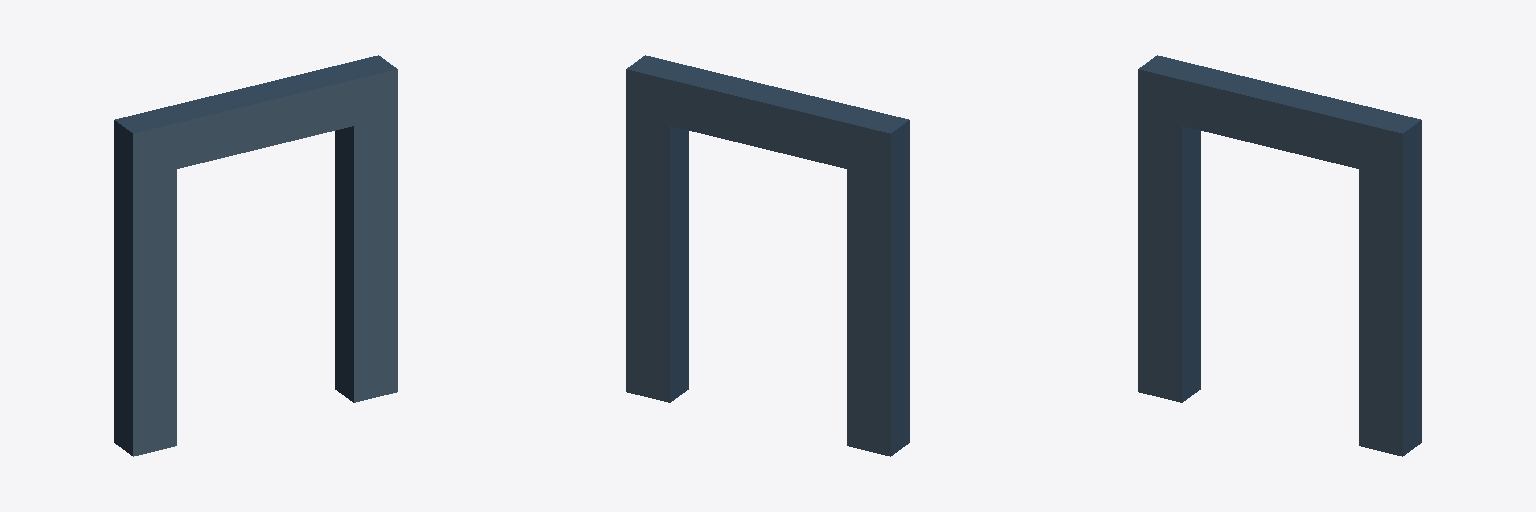
Rendered from Gate.obj.
3 views of the same model, side by side, from view 1: azimuth 30°, elevation 25°; view 2: azimuth 150°, elevation 25°; view 3: azimuth 330°, elevation 25° (orthographic).
Parts seen in each view (by area): view 1: Mesh3.1; view 2: Mesh3.1; view 3: Mesh3.1.
Boxes of the visible parts, <box> form: Mesh3.1: <box>114,55,397,456</box>; Mesh3.1: <box>626,55,909,456</box>; Mesh3.1: <box>1138,55,1421,456</box>.
Size of the model in its own units: 12 by 14 by 1.5.